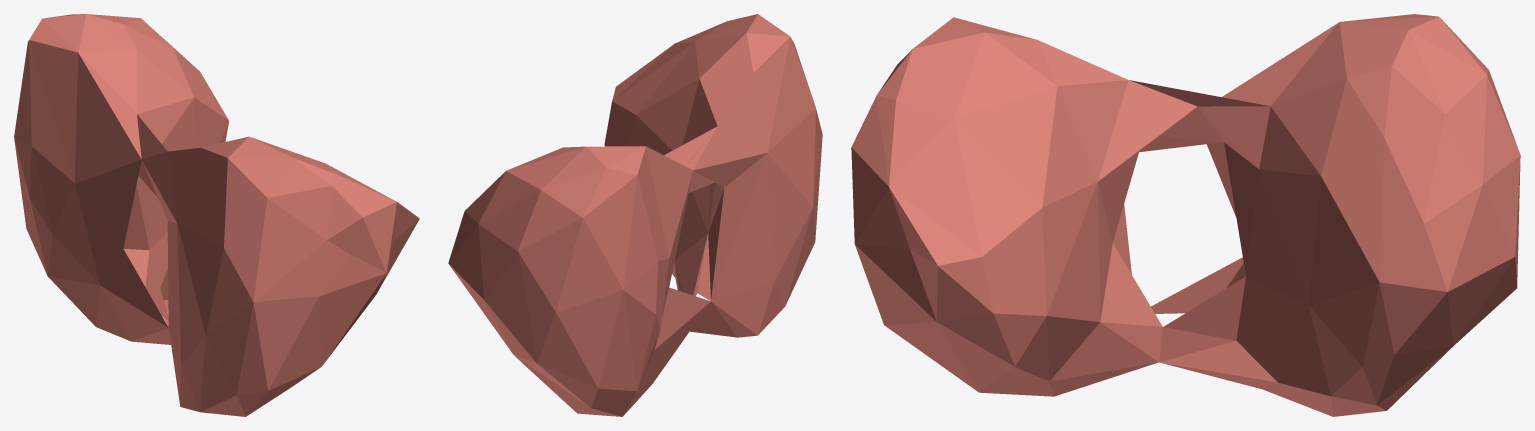
3 renders of one model, left to right at view 1: azimuth 30°, elevation 25°; view 2: azimuth 150°, elevation 25°; view 3: azimuth 270°, elevation 25°, orthographic. The views are drawn at different scales.
Parts seen in each view (by area): view 1: 1126.obj; view 2: 1126.obj; view 3: 1126.obj.
Boxes of the visible parts, <box> form: 1126.obj: <box>14,14,419,416</box>; 1126.obj: <box>448,14,822,416</box>; 1126.obj: <box>851,14,1520,416</box>.
Bounding box in the file's own units: 227 × 294 × 472.
